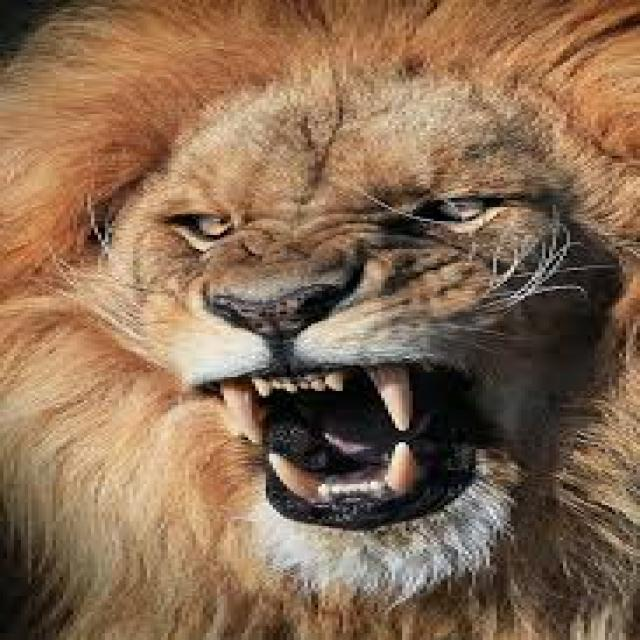Lion: (36, 101, 600, 634)
